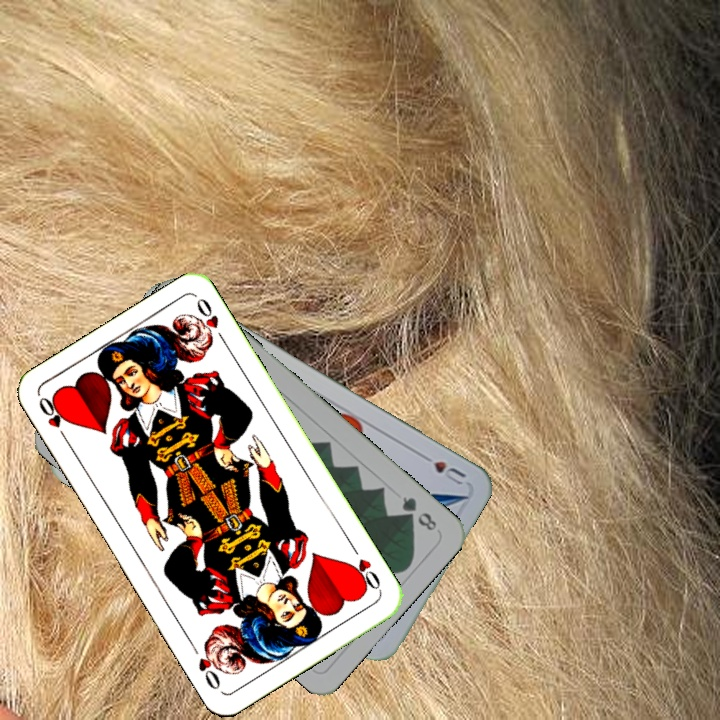G8: (397, 492, 440, 534)
HO: (345, 540, 384, 594), (34, 392, 72, 446)
HU: (415, 449, 469, 488)
